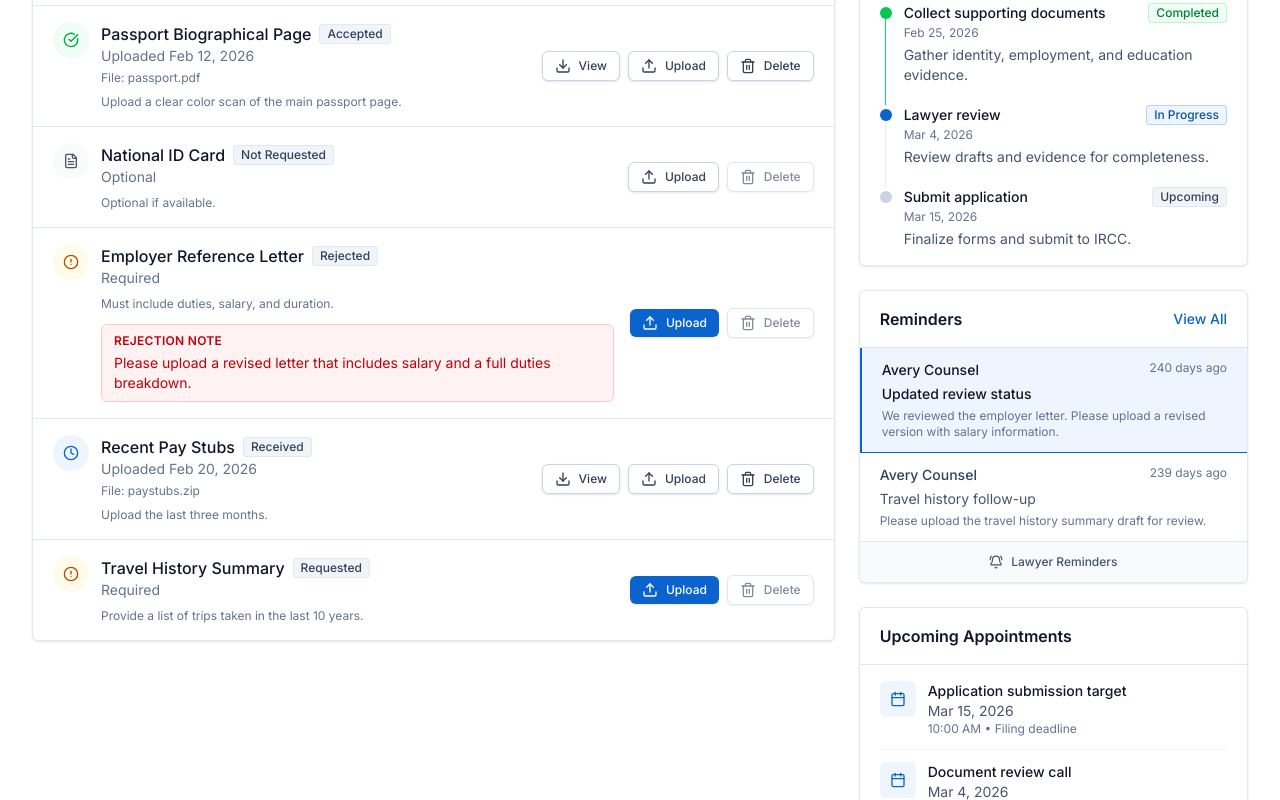
Test case: ClientDashboard reminders › CT-CLIENT-18: opens an unread reminder and marks it read
The image size is (1280, 800).
(page scrolled)
Expected: the heading "Reminders" is shown, top-left (880, 307), bottom-right (962, 331)
Step 1. Click the button "Updated review status" → (930, 370), box top-left (860, 348), bottom-right (1247, 453)
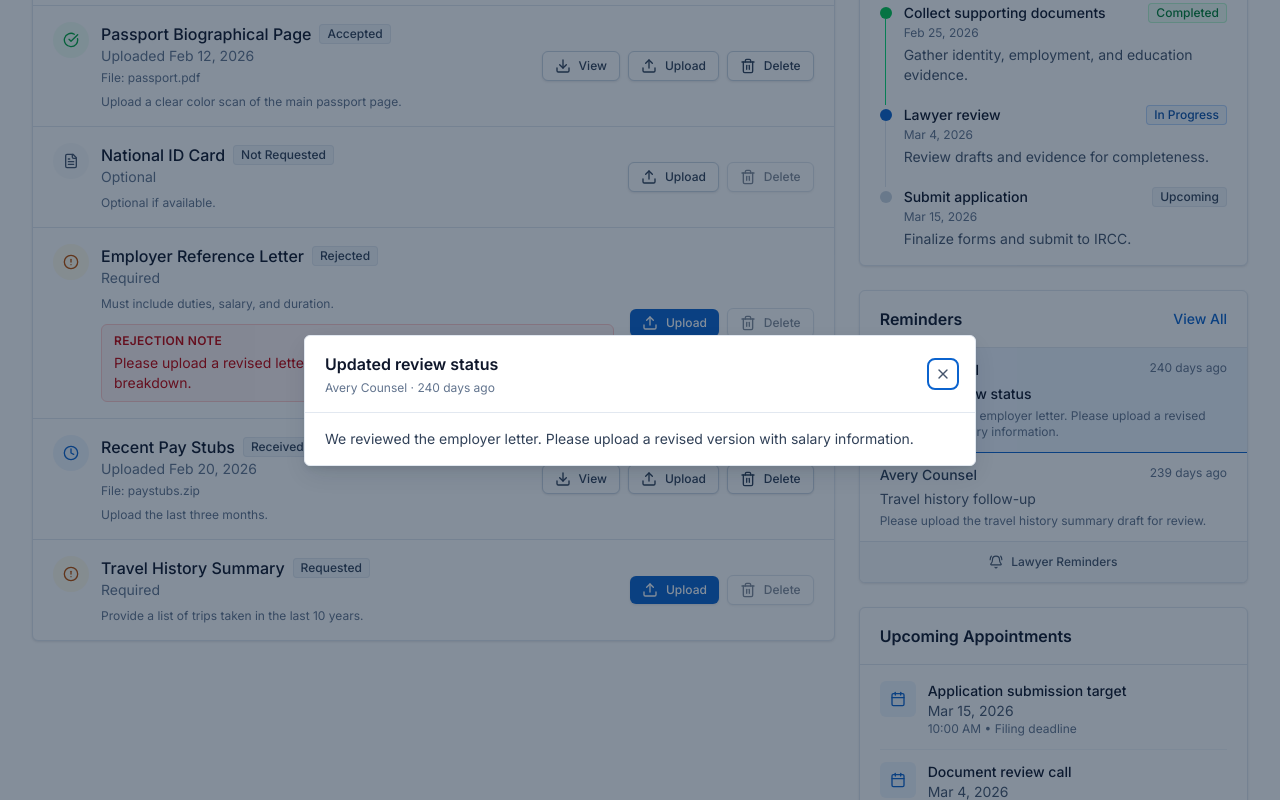
Expected: the text "Please upload a revised version with salary information" is shown, top-left (325, 430), bottom-right (914, 446)
